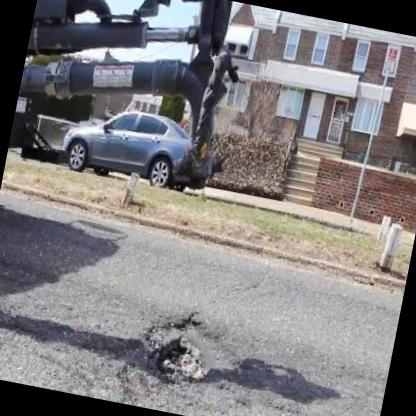pothole: (131, 303, 226, 395)
